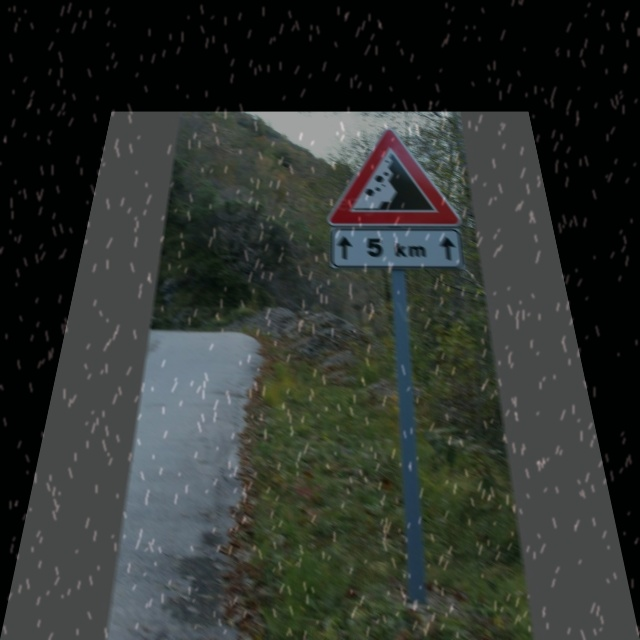Falling_Rocks: (327, 129, 460, 225)
